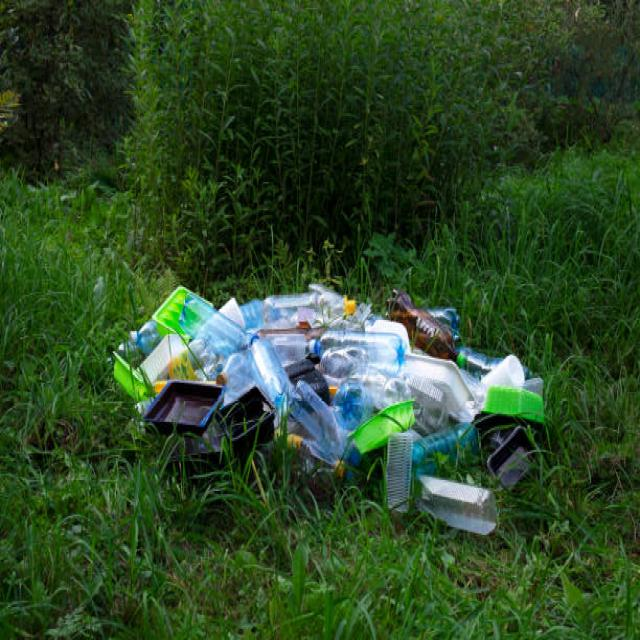plastic: (155, 276, 475, 485)
